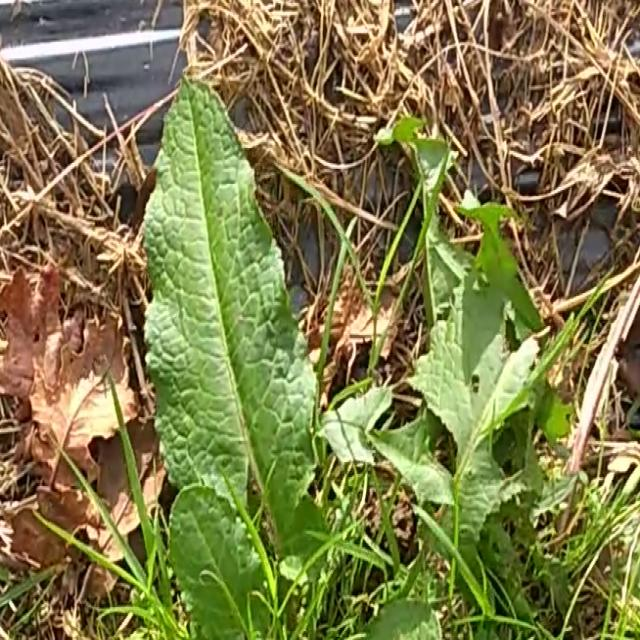organic waste: (114, 45, 626, 640)
